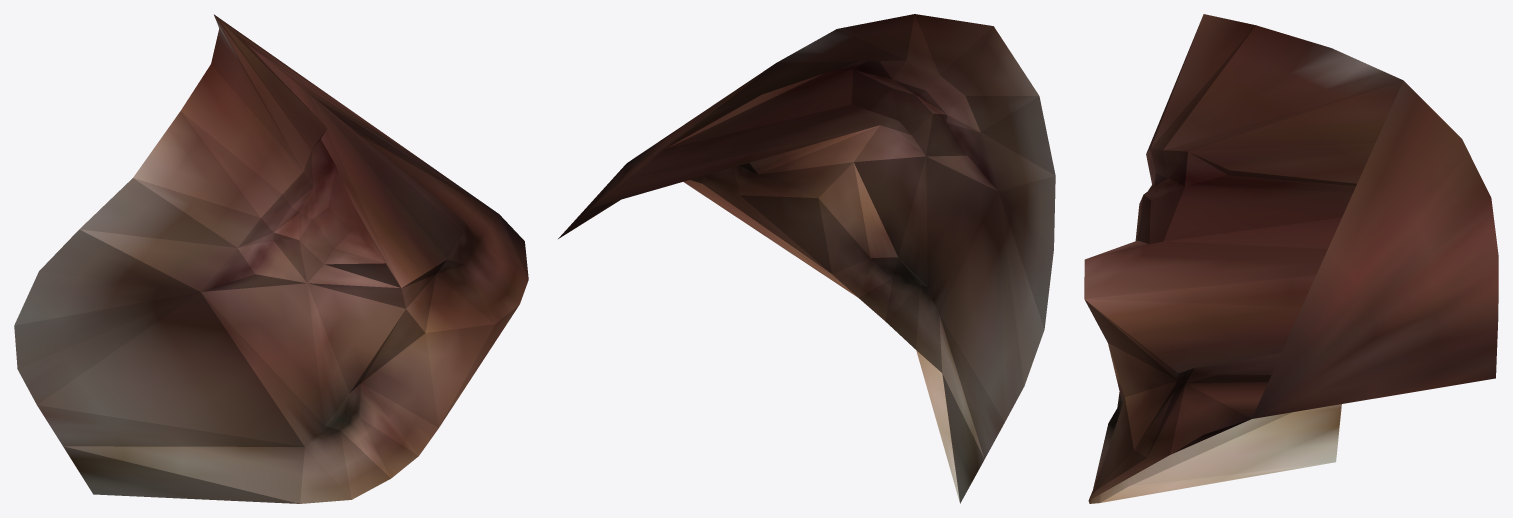
Rendered from fake_16914.obj.
The picture shows the model from 3 angles, left to right: view 1: azimuth 30°, elevation 25°; view 2: azimuth 150°, elevation 25°; view 3: azimuth 270°, elevation 25°; orthographic projection. The views are drawn at different scales.
Bounding box in the file's own units: 117 × 108 × 84.43.
